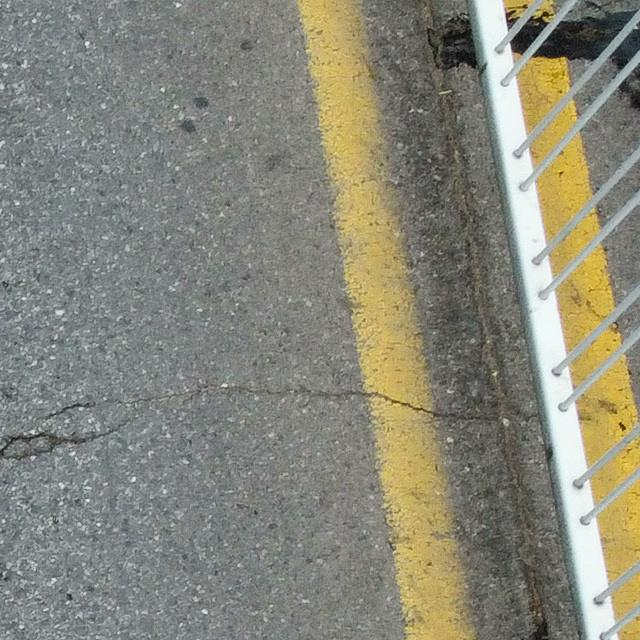LongitudinalCrack: (423, 4, 548, 640)
TransverseCrack: (1, 388, 503, 460)
